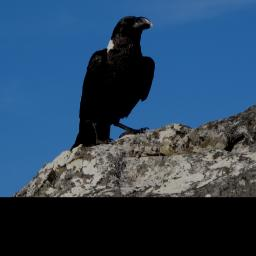Crow: (69, 13, 157, 152)
